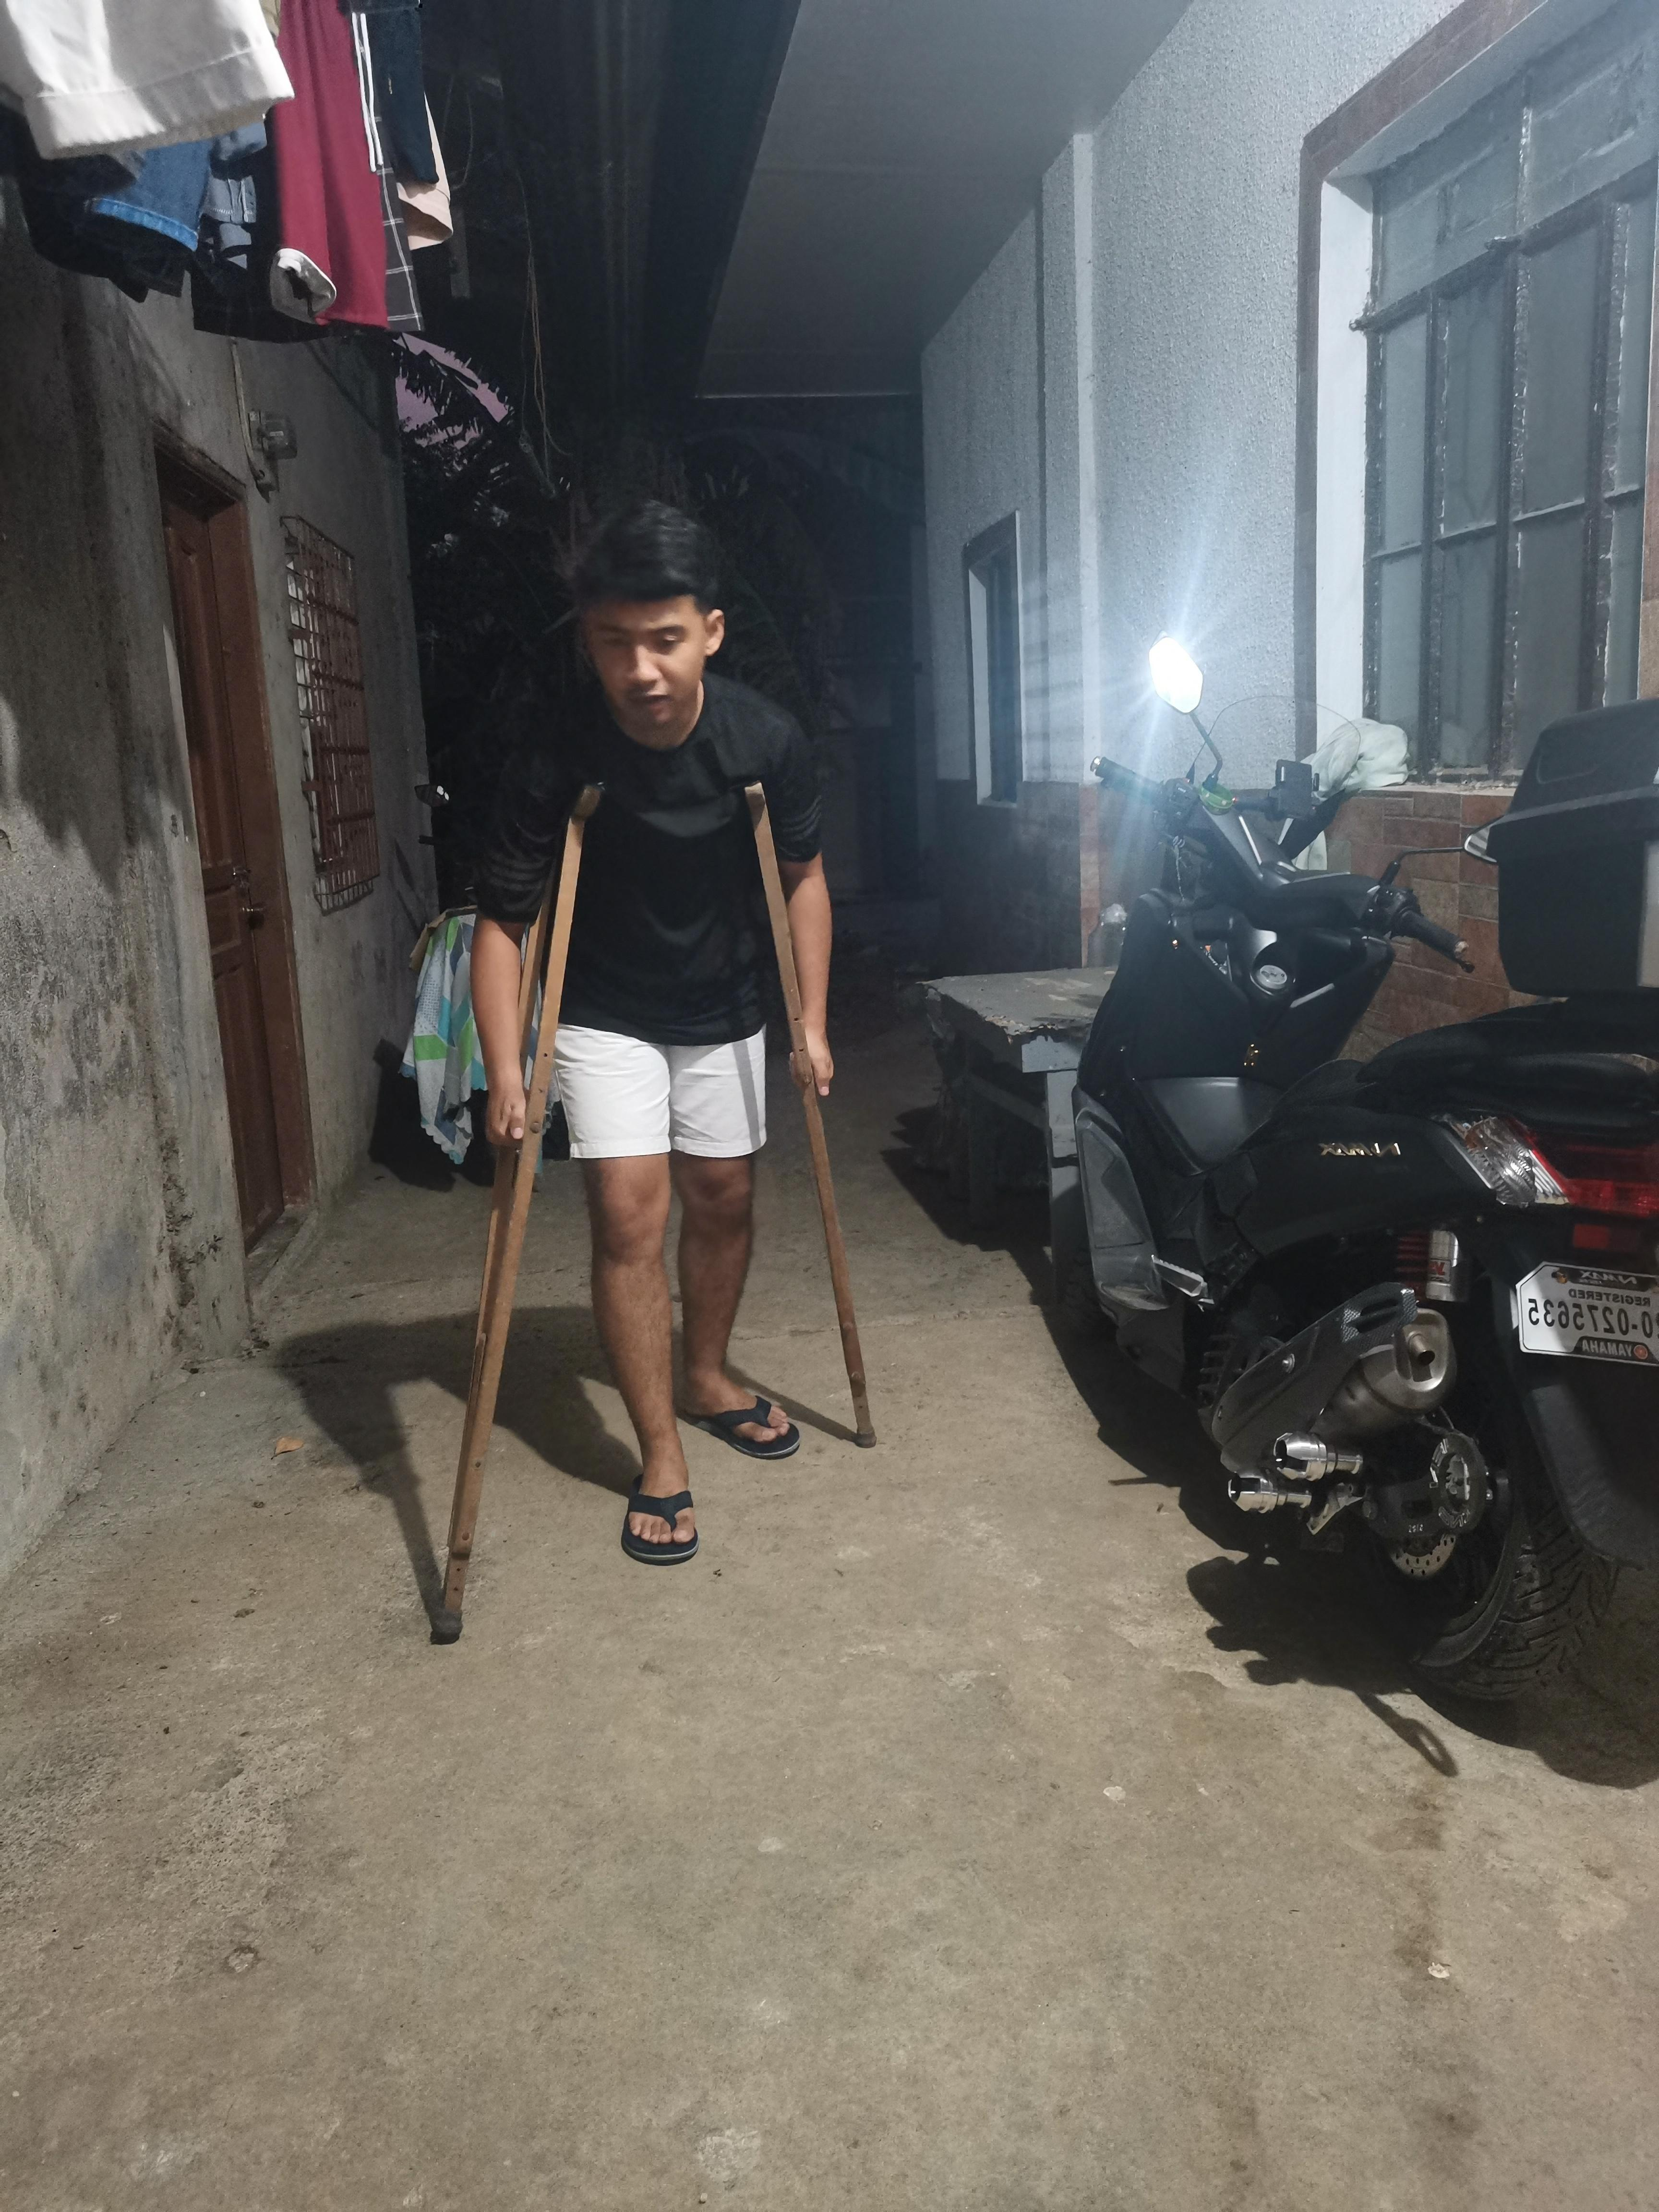crutches: (410, 472, 890, 1663)
